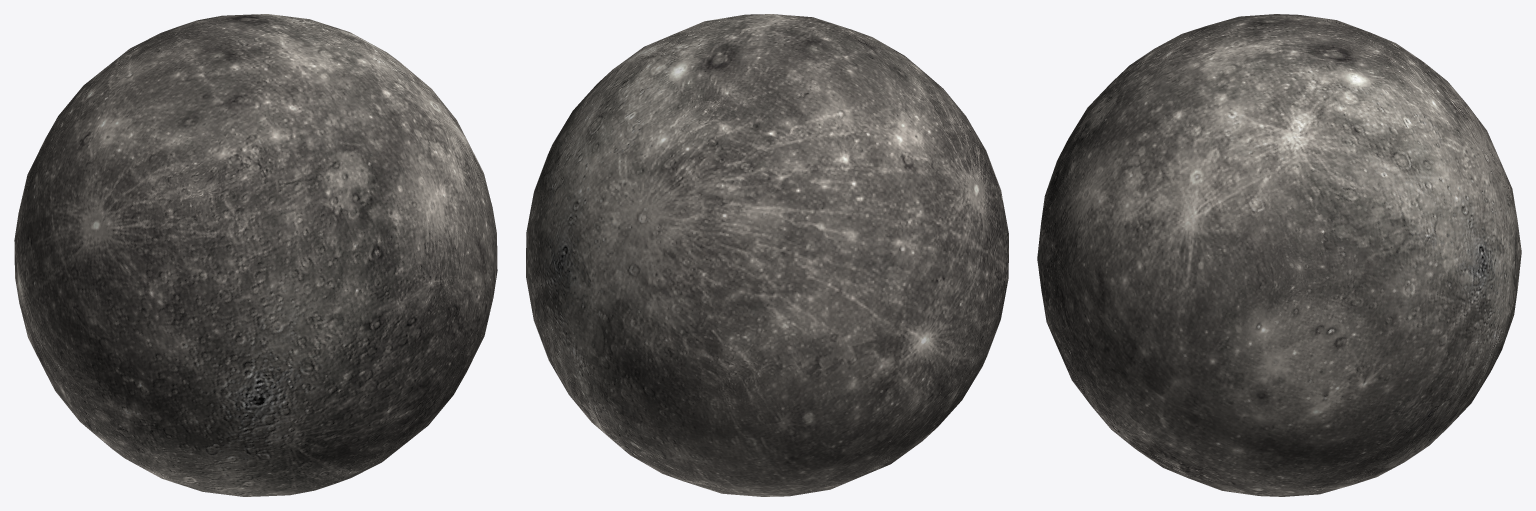
The model's file is Mercury_1K.gltf.
3 renders of one model, left to right at view 1: azimuth 30°, elevation 25°; view 2: azimuth 150°, elevation 25°; view 3: azimuth 270°, elevation 25°, orthographic.
Visible parts, largest first — view 1: Mercury; view 2: Mercury; view 3: Mercury.
Boxes of the visible parts, left/top/right/bottom form: Mercury: left=14, top=14, right=497, bottom=496; Mercury: left=526, top=14, right=1008, bottom=496; Mercury: left=1037, top=14, right=1521, bottom=496.
Size of the model in its own units: 0.4749 by 0.4743 by 0.4759.
1 material, 1 textured.
